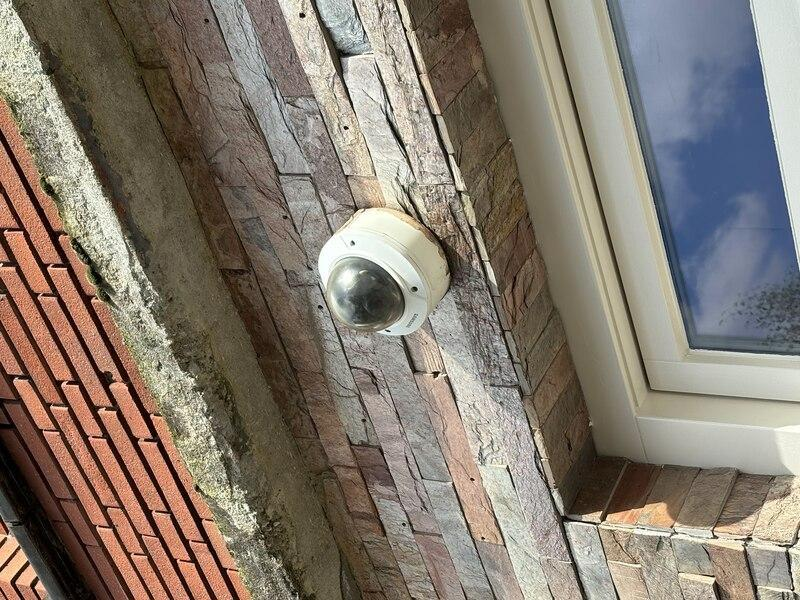dome: (254, 314, 396, 456)
